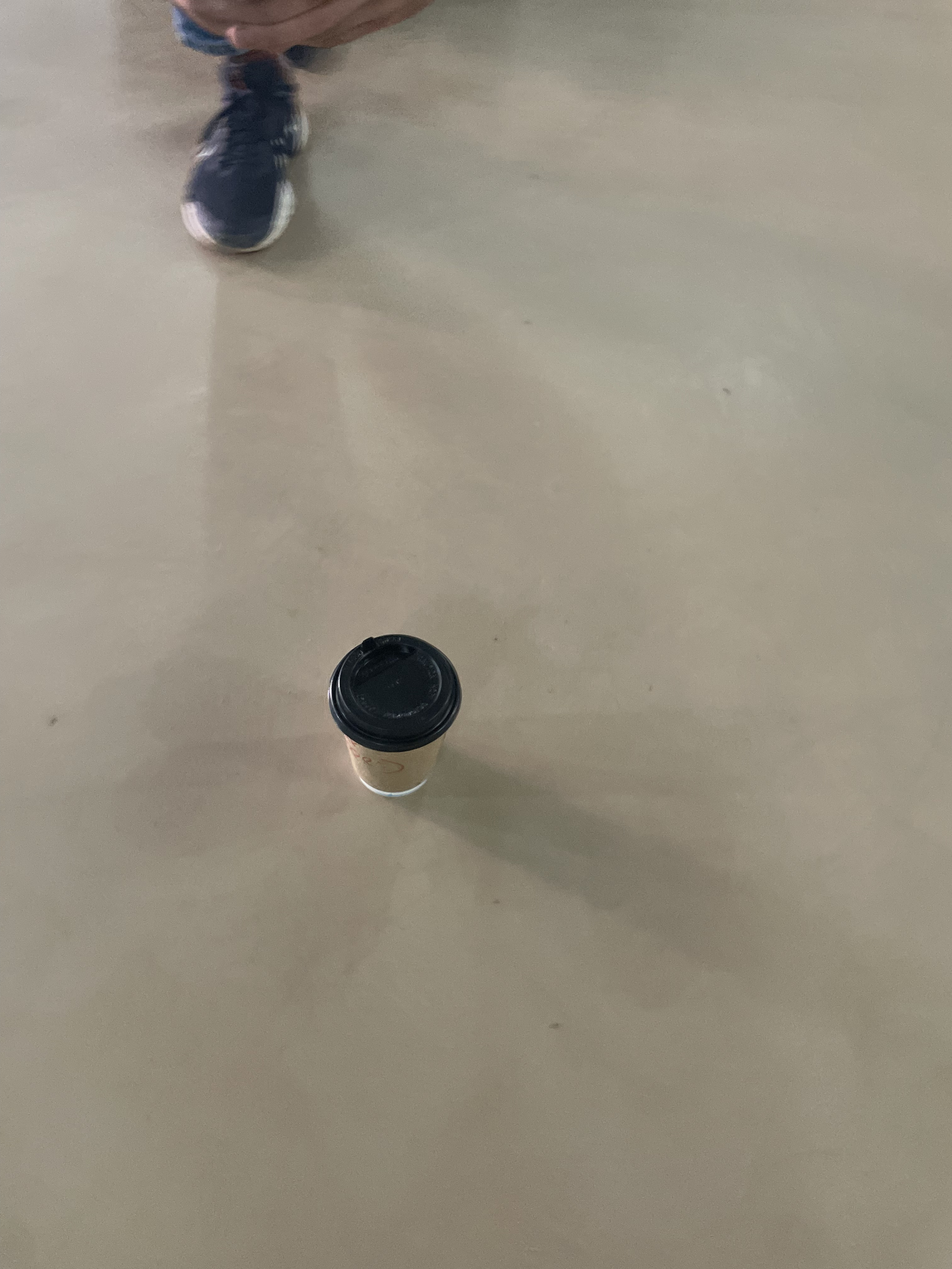cup: (328, 634, 462, 797)
